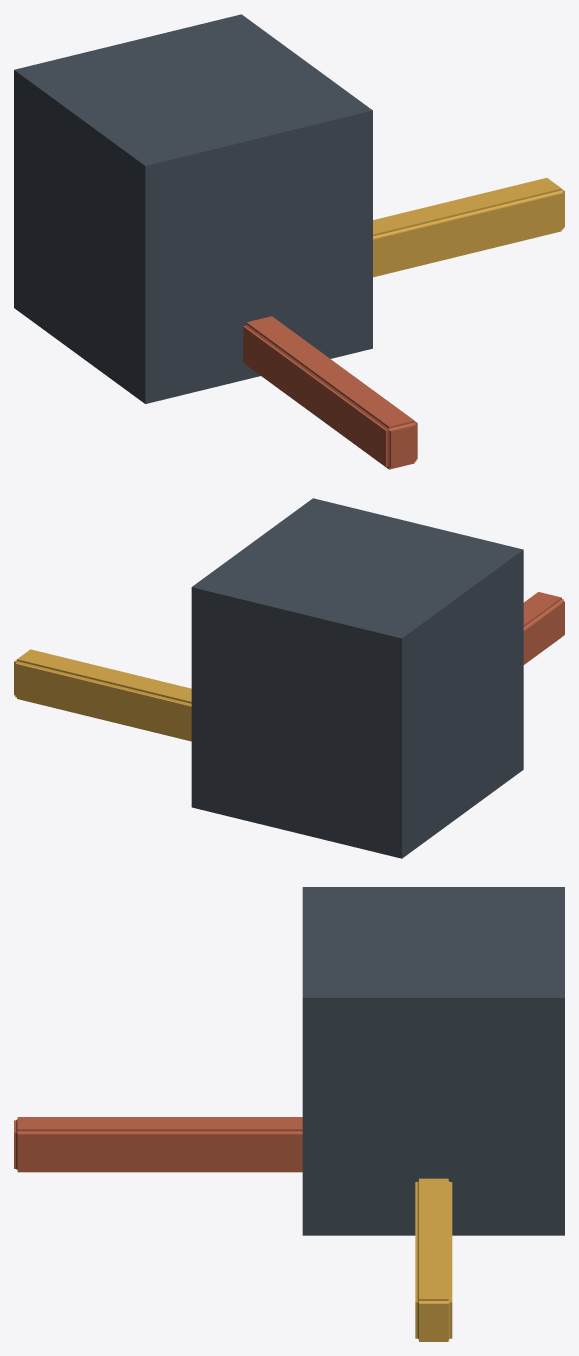
The model's file is REVIEW_CoordinateWitness.glb.
3 renders of one model, top to bottom at view 1: azimuth 30°, elevation 25°; view 2: azimuth 150°, elevation 25°; view 3: azimuth 270°, elevation 25°, orthographic. The views are drawn at different scales.
Parts seen in each view (by area): view 1: VC_ENVKIT_Witness_OneMetreCube, VC_ENVKIT_Witness_RiderRight_MinusY, VC_ENVKIT_Witness_Forward_X; view 2: VC_ENVKIT_Witness_OneMetreCube, VC_ENVKIT_Witness_Forward_X, VC_ENVKIT_Witness_RiderRight_MinusY; view 3: VC_ENVKIT_Witness_OneMetreCube, VC_ENVKIT_Witness_RiderRight_MinusY, VC_ENVKIT_Witness_Forward_X.
Part boxes in pixels (x1,y1,x2,y2): VC_ENVKIT_Witness_OneMetreCube: (14,14,372,403); VC_ENVKIT_Witness_RiderRight_MinusY: (243,316,417,469); VC_ENVKIT_Witness_Forward_X: (373,178,564,277); VC_ENVKIT_Witness_OneMetreCube: (191,498,523,858); VC_ENVKIT_Witness_Forward_X: (14,649,191,741); VC_ENVKIT_Witness_RiderRight_MinusY: (523,592,564,664); VC_ENVKIT_Witness_OneMetreCube: (302,887,564,1235); VC_ENVKIT_Witness_RiderRight_MinusY: (14,1117,302,1172); VC_ENVKIT_Witness_Forward_X: (415,1178,452,1341).
Bounding box in the file's own units: 2.1 × 1 × 2.1.
